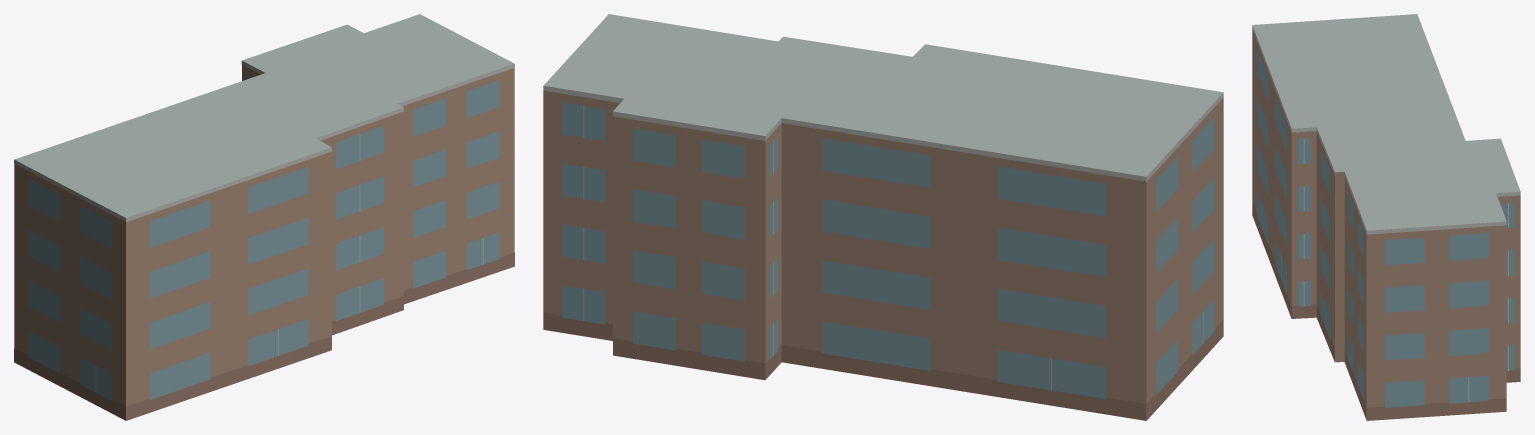
The model's file is survey-upis-32979645.glb.
3 renders of one model, left to right at view 1: azimuth 30°, elevation 25°; view 2: azimuth 150°, elevation 25°; view 3: azimuth 270°, elevation 25°, orthographic. The views are drawn at different scales.
Parts seen in each view (by area): view 1: survey-upis-32979645.tmp; view 2: survey-upis-32979645.tmp; view 3: survey-upis-32979645.tmp.
Part boxes in pixels (<box>): survey-upis-32979645.tmp: <box>14,14,514,420</box>; survey-upis-32979645.tmp: <box>543,14,1223,420</box>; survey-upis-32979645.tmp: <box>1252,14,1520,420</box>.
Size of the model in its own units: 29.83 by 12.2 by 15.62.
